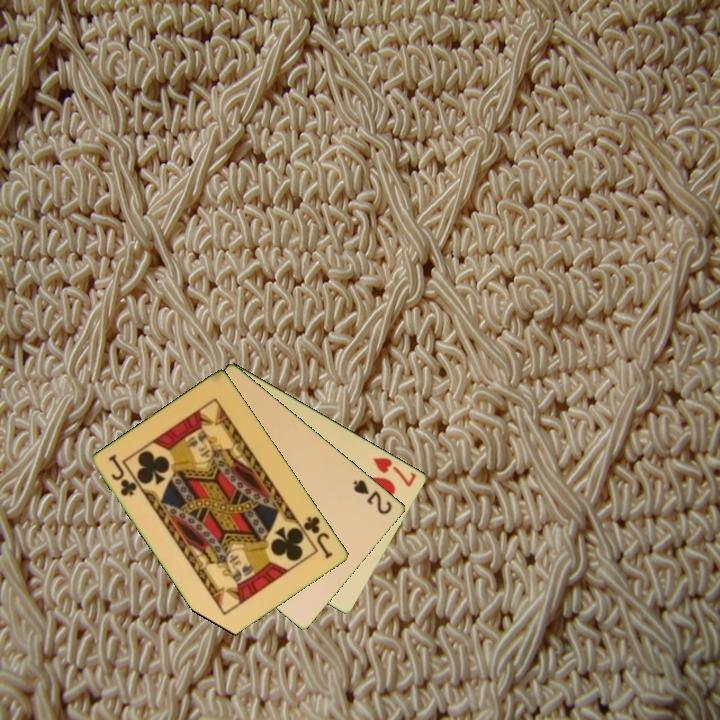2s: (350, 476, 395, 518)
7h: (369, 454, 420, 490)
Jc: (300, 513, 336, 562), (105, 451, 140, 499)
